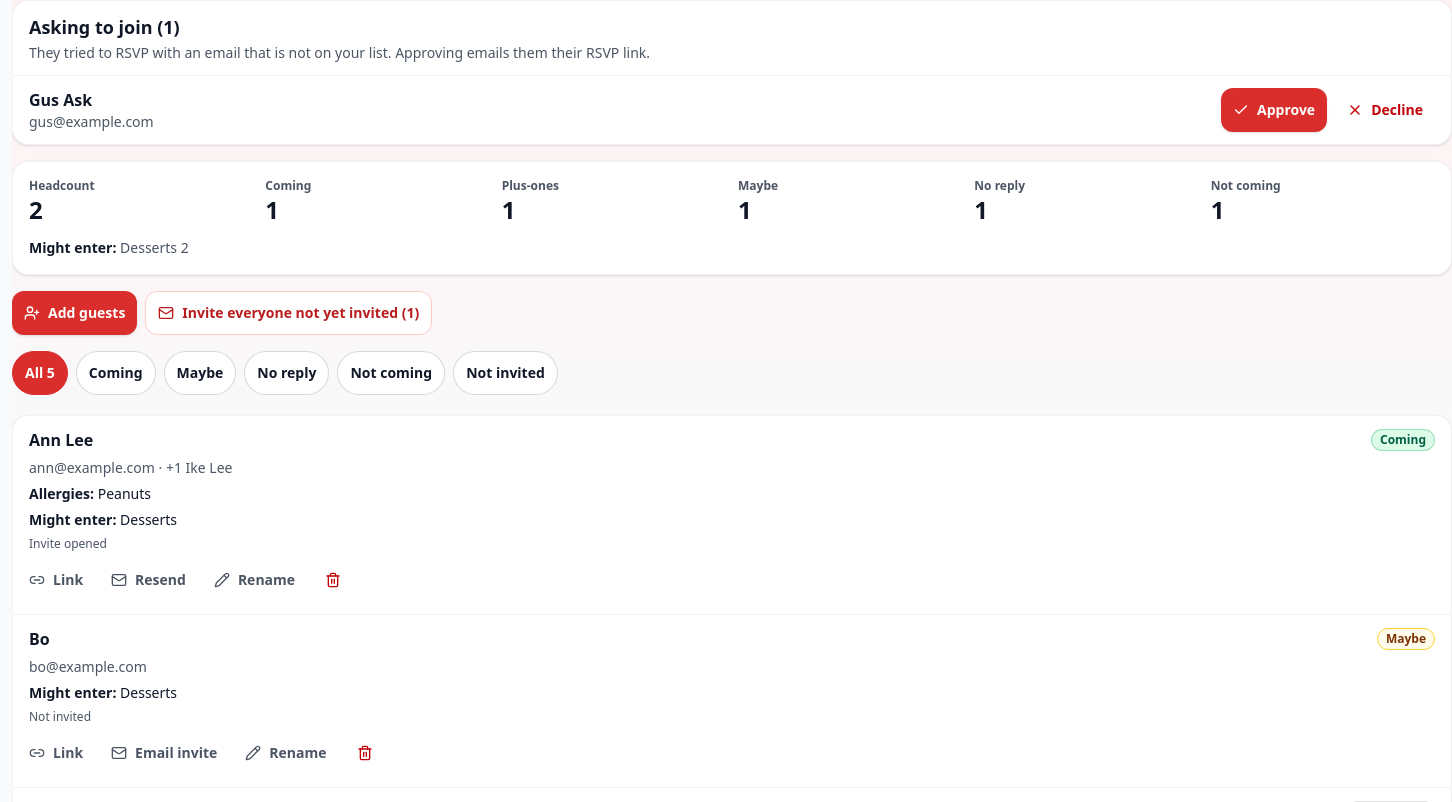
Test case: GuestsTab › filters by RSVP status
The image size is (1452, 802).
What coordinates should you click on to do the following:
click the button "Maybe"
I would click on:
 (200, 373)
Its box is x1=164 y1=351 x2=236 y2=395.
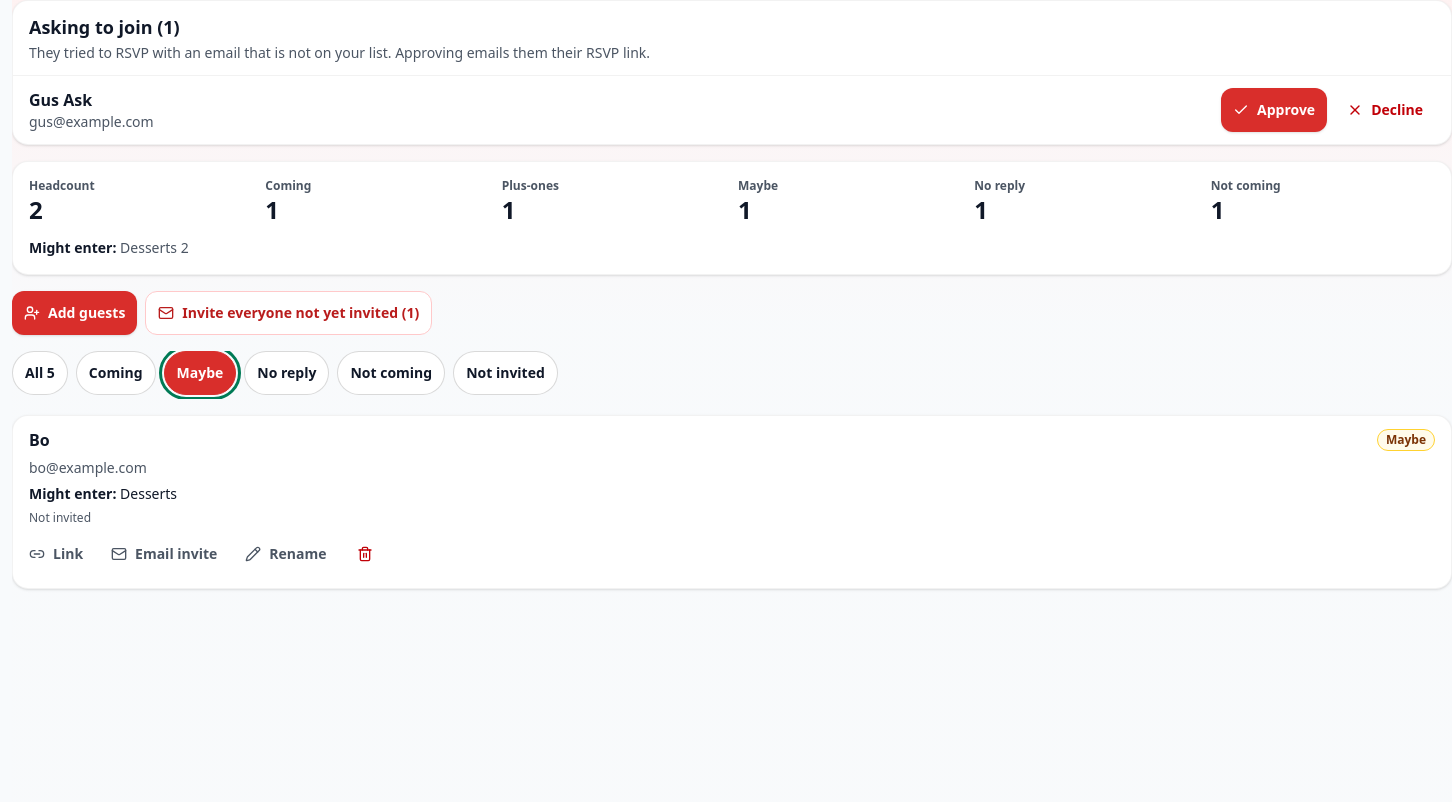
Expected: the text "Bo" is shown, x1=29 y1=429 x2=50 y2=451
Now the text "Ann Lee" is gone
